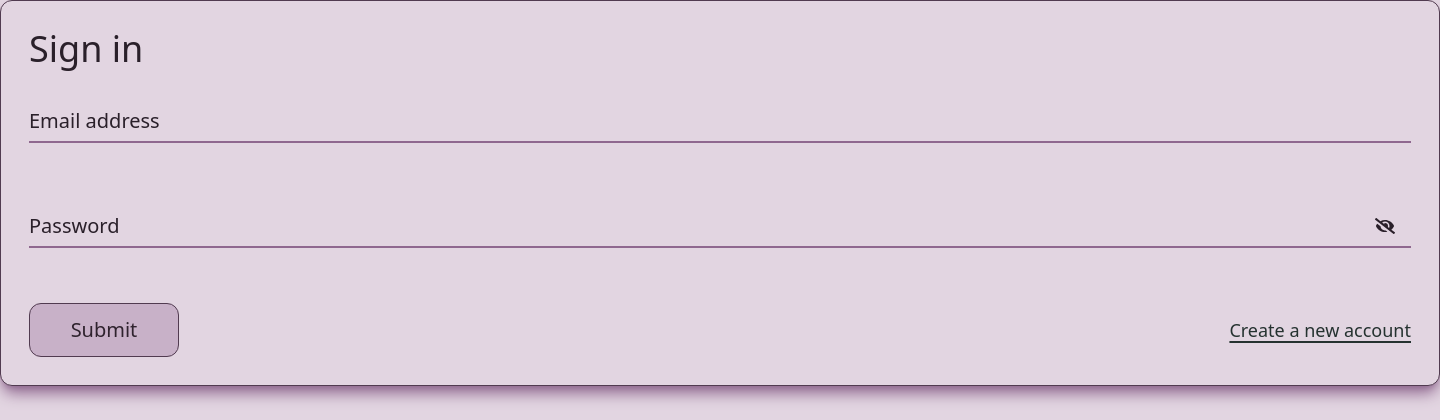
Test: AuthForm › error message displays when user tries to submit the form without info
Click the button "Submit".
click(104, 330)  # box [29,303,179,357]
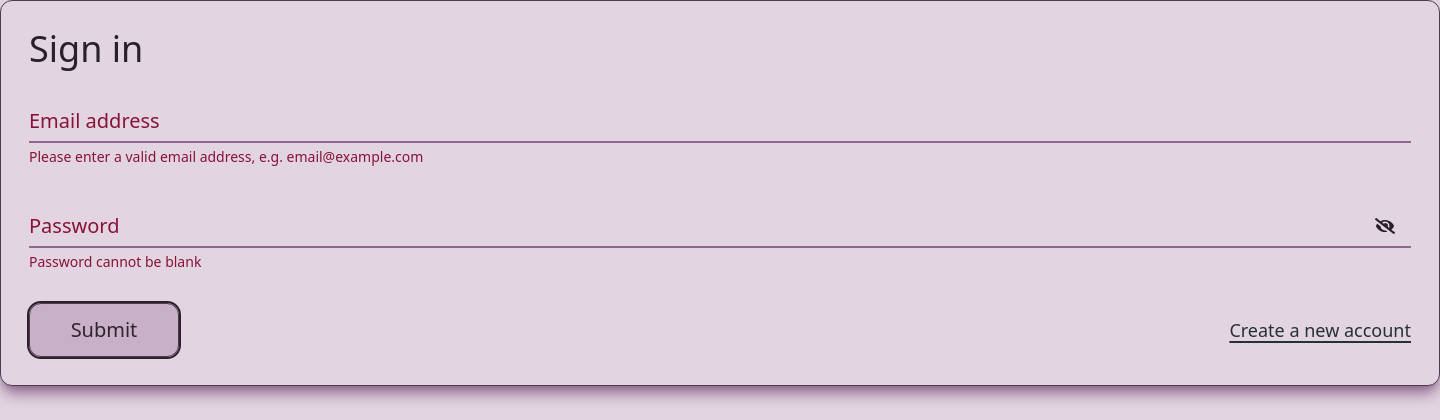
Expected: the text "Please enter a valid email address, e.g. email@example.com" is shown, [29,147,423,166]
Expected: the text "Password cannot be blank" is shown, [29,252,201,271]
